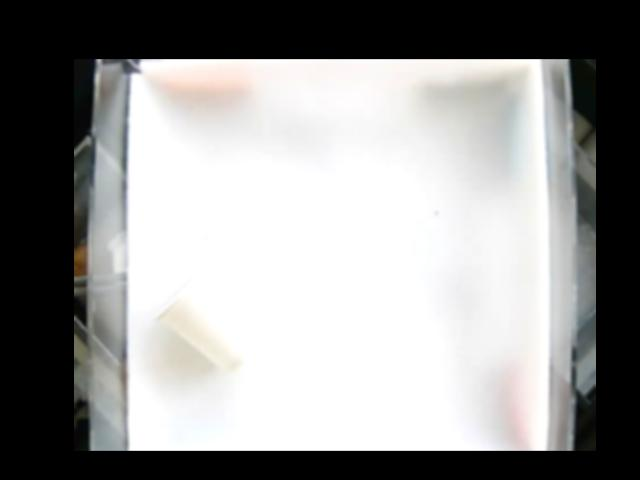Cup: (154, 247, 278, 371)
